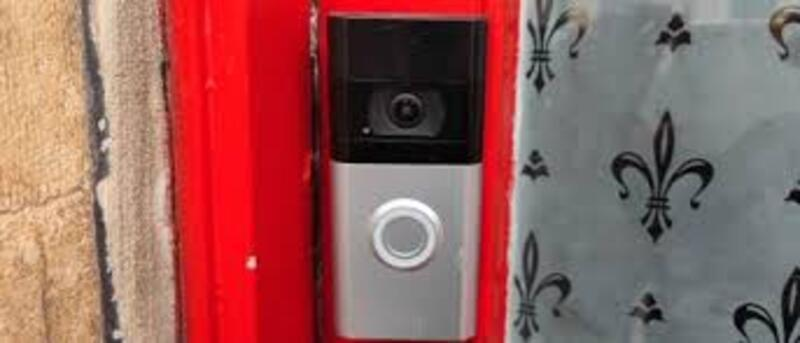doorbell: (325, 7, 480, 340)
